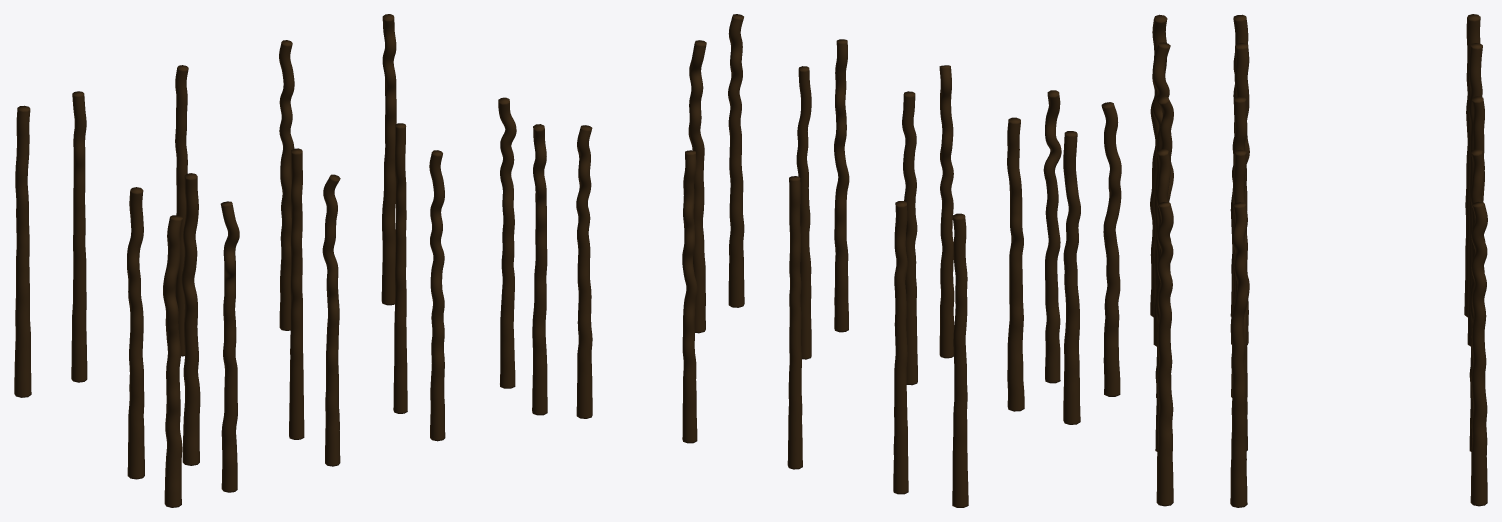
The model's file is TreeColumns_mdl.fbx.
3 views of the same model, side by side, from view 1: azimuth 30°, elevation 25°; view 2: azimuth 150°, elevation 25°; view 3: azimuth 270°, elevation 25° (orthographic). The views are drawn at different scales.
Visible parts, largest first — view 1: Cube.035, Cube.078, Cube.065, Cube.066, Cube.036, Cube.074, Cube.077, Cube.041, Cube.030, Cube.075, Cube.076, Cube.039 (+3 smaller); view 2: Cube.065, Cube.035, Cube.078, Cube.066, Cube.039, Cube.077, Cube.074, Cube.036, Cube.037, Cube.075, Cube.038, Cube.076 (+3 smaller); view 3: Cube.041, Cube.039, Cube.077, Cube.074, Cube.036, Cube.066, Cube.078, Cube.035, Cube.030, Cube.031, Cube.038, Cube.076 (+3 smaller).
Boxes of the visible parts, x1,y1,x2,y2 form: Cube.035: (181, 173, 200, 465); Cube.078: (163, 215, 182, 507); Cube.065: (127, 187, 144, 479); Cube.066: (14, 105, 31, 397); Cube.036: (71, 91, 87, 382); Cube.074: (220, 201, 239, 492); Cube.077: (532, 124, 547, 415); Cube.041: (498, 97, 516, 388); Cube.030: (289, 148, 304, 439); Cube.075: (322, 174, 340, 466); Cube.076: (429, 150, 445, 441); Cube.039: (381, 14, 396, 305); Cube.065: (1063, 131, 1080, 424); Cube.035: (1007, 117, 1024, 411); Cube.078: (1101, 102, 1121, 396); Cube.066: (952, 213, 968, 507); Cube.039: (576, 125, 592, 418); Cube.077: (728, 14, 744, 307); Cube.074: (1043, 90, 1061, 383); Cube.036: (893, 201, 908, 494); Cube.037: (787, 176, 802, 469); Cube.075: (939, 65, 954, 358); Cube.038: (682, 150, 697, 443); Cube.076: (834, 39, 849, 332); Cube.041: (1230, 202, 1249, 507); Cube.039: (1470, 202, 1487, 506); Cube.077: (1156, 202, 1173, 506); Cube.074: (1152, 42, 1170, 346); Cube.036: (1467, 43, 1482, 346); Cube.066: (1464, 14, 1480, 317); Cube.078: (1150, 14, 1167, 317); Cube.035: (1231, 43, 1249, 345); Cube.030: (1231, 96, 1247, 397); Cube.031: (1233, 149, 1247, 450); Cube.038: (1469, 149, 1485, 451); Cube.076: (1155, 149, 1171, 451).
Size of the model in its own units: 1043 by 734 by 750.
